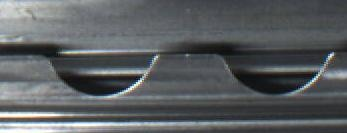twou: (56, 44, 316, 106)
